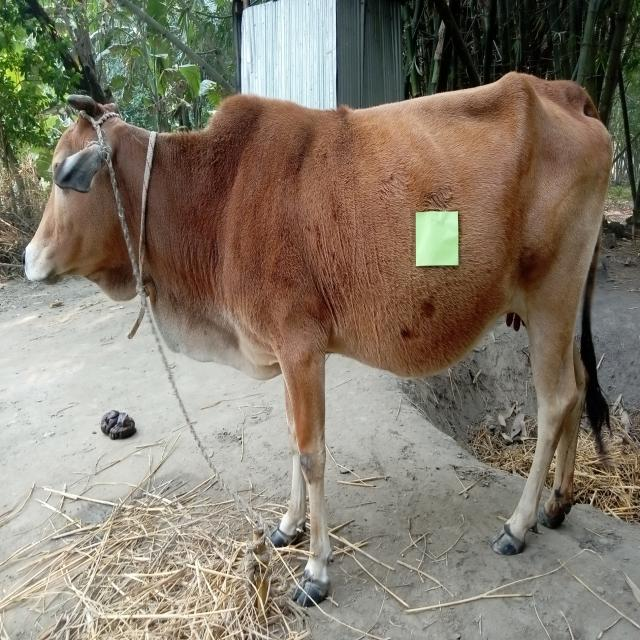badan_sapi: (215, 69, 599, 385)
sapi: (11, 70, 626, 607)
